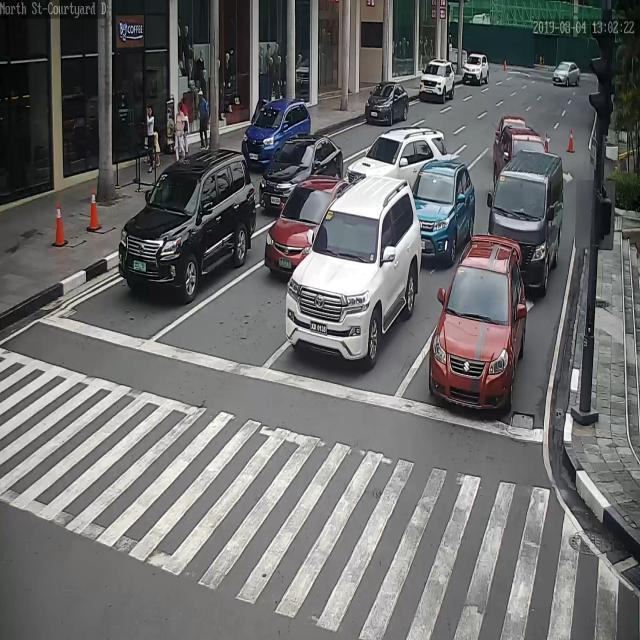car: (283, 172, 422, 368), (112, 150, 264, 296), (430, 235, 529, 411), (265, 174, 349, 278), (412, 159, 477, 267), (257, 134, 341, 206), (349, 126, 447, 185), (244, 98, 314, 161), (493, 122, 553, 179), (366, 81, 411, 127), (417, 59, 455, 105), (461, 53, 490, 84), (551, 62, 580, 87)
van: (486, 150, 565, 291)
